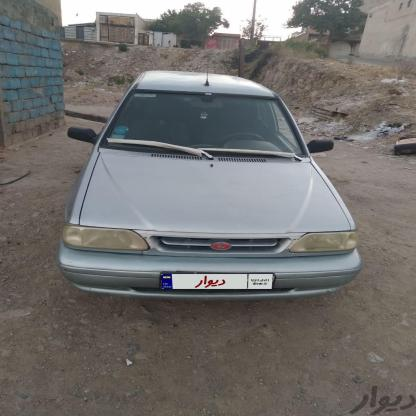Car: (60, 66, 370, 301)
